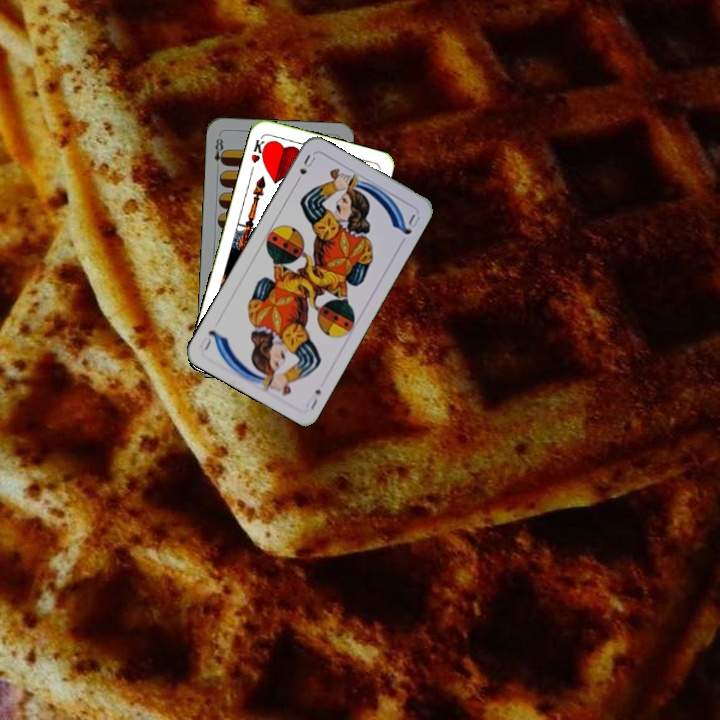E8: (210, 134, 228, 172)
HK: (247, 133, 271, 166)
SU: (291, 150, 318, 187), (301, 385, 323, 413)
